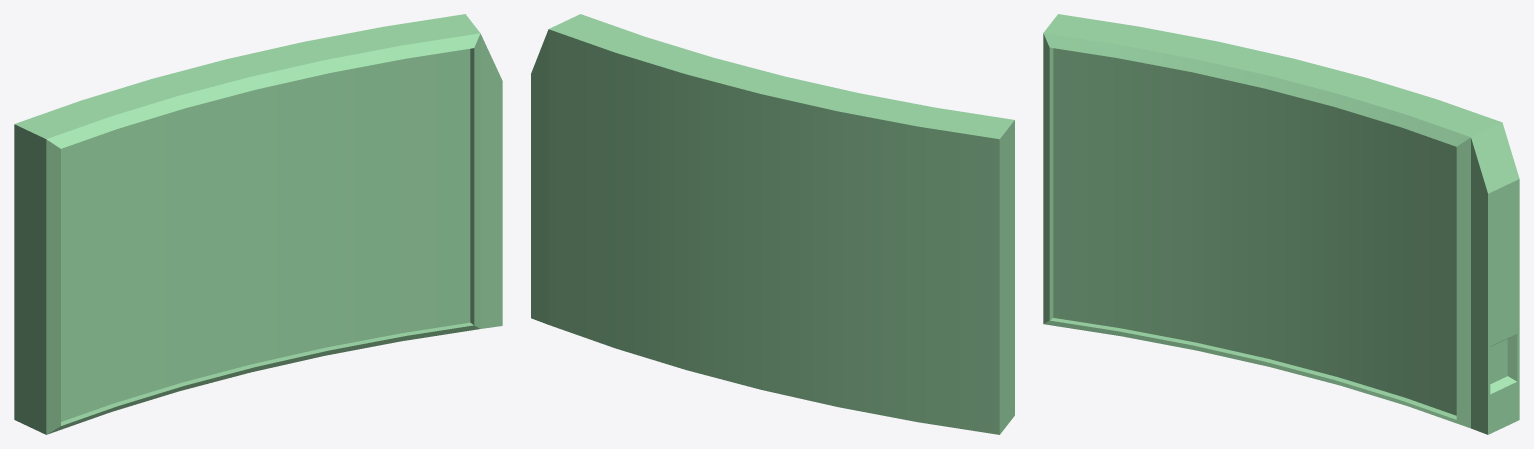
Rendered from VS5_VisionRoomTV.FBX.
3 renders of one model, left to right at view 1: azimuth 30°, elevation 25°; view 2: azimuth 150°, elevation 25°; view 3: azimuth 330°, elevation 25°, orthographic.
Visible parts, largest first — view 1: VisionRoomTV_single; view 2: VisionRoomTV_single; view 3: VisionRoomTV_single.
Boxes of the visible parts, x1,y1,x2,y2 form: VisionRoomTV_single: (14,14,502,434); VisionRoomTV_single: (531,14,1014,434); VisionRoomTV_single: (1043,14,1519,434).
Size of the model in its own units: 91.87 by 55.12 by 13.87.
